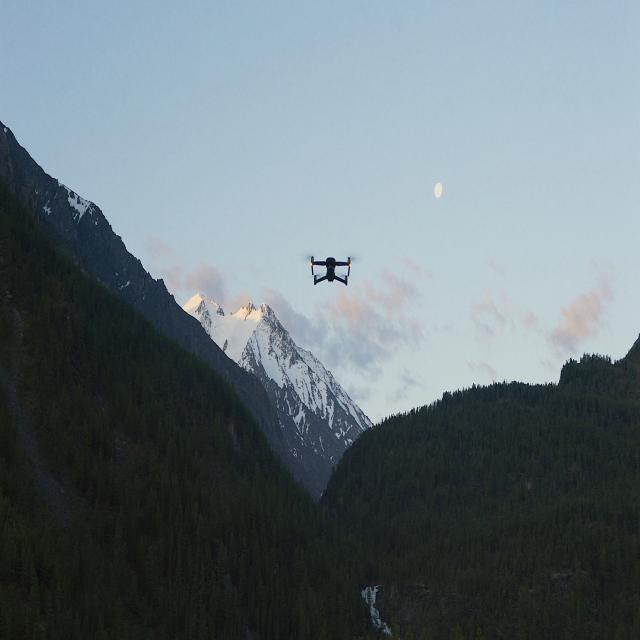Drone: (308, 255, 353, 285)
